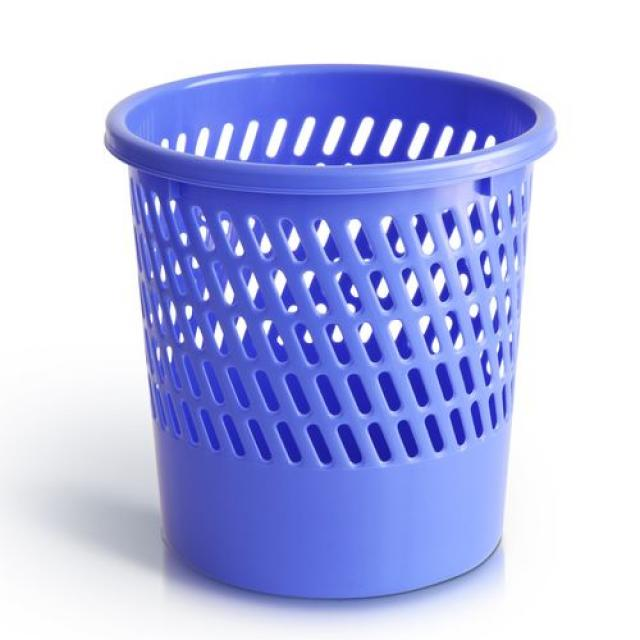Dustbin: (97, 58, 565, 606)
